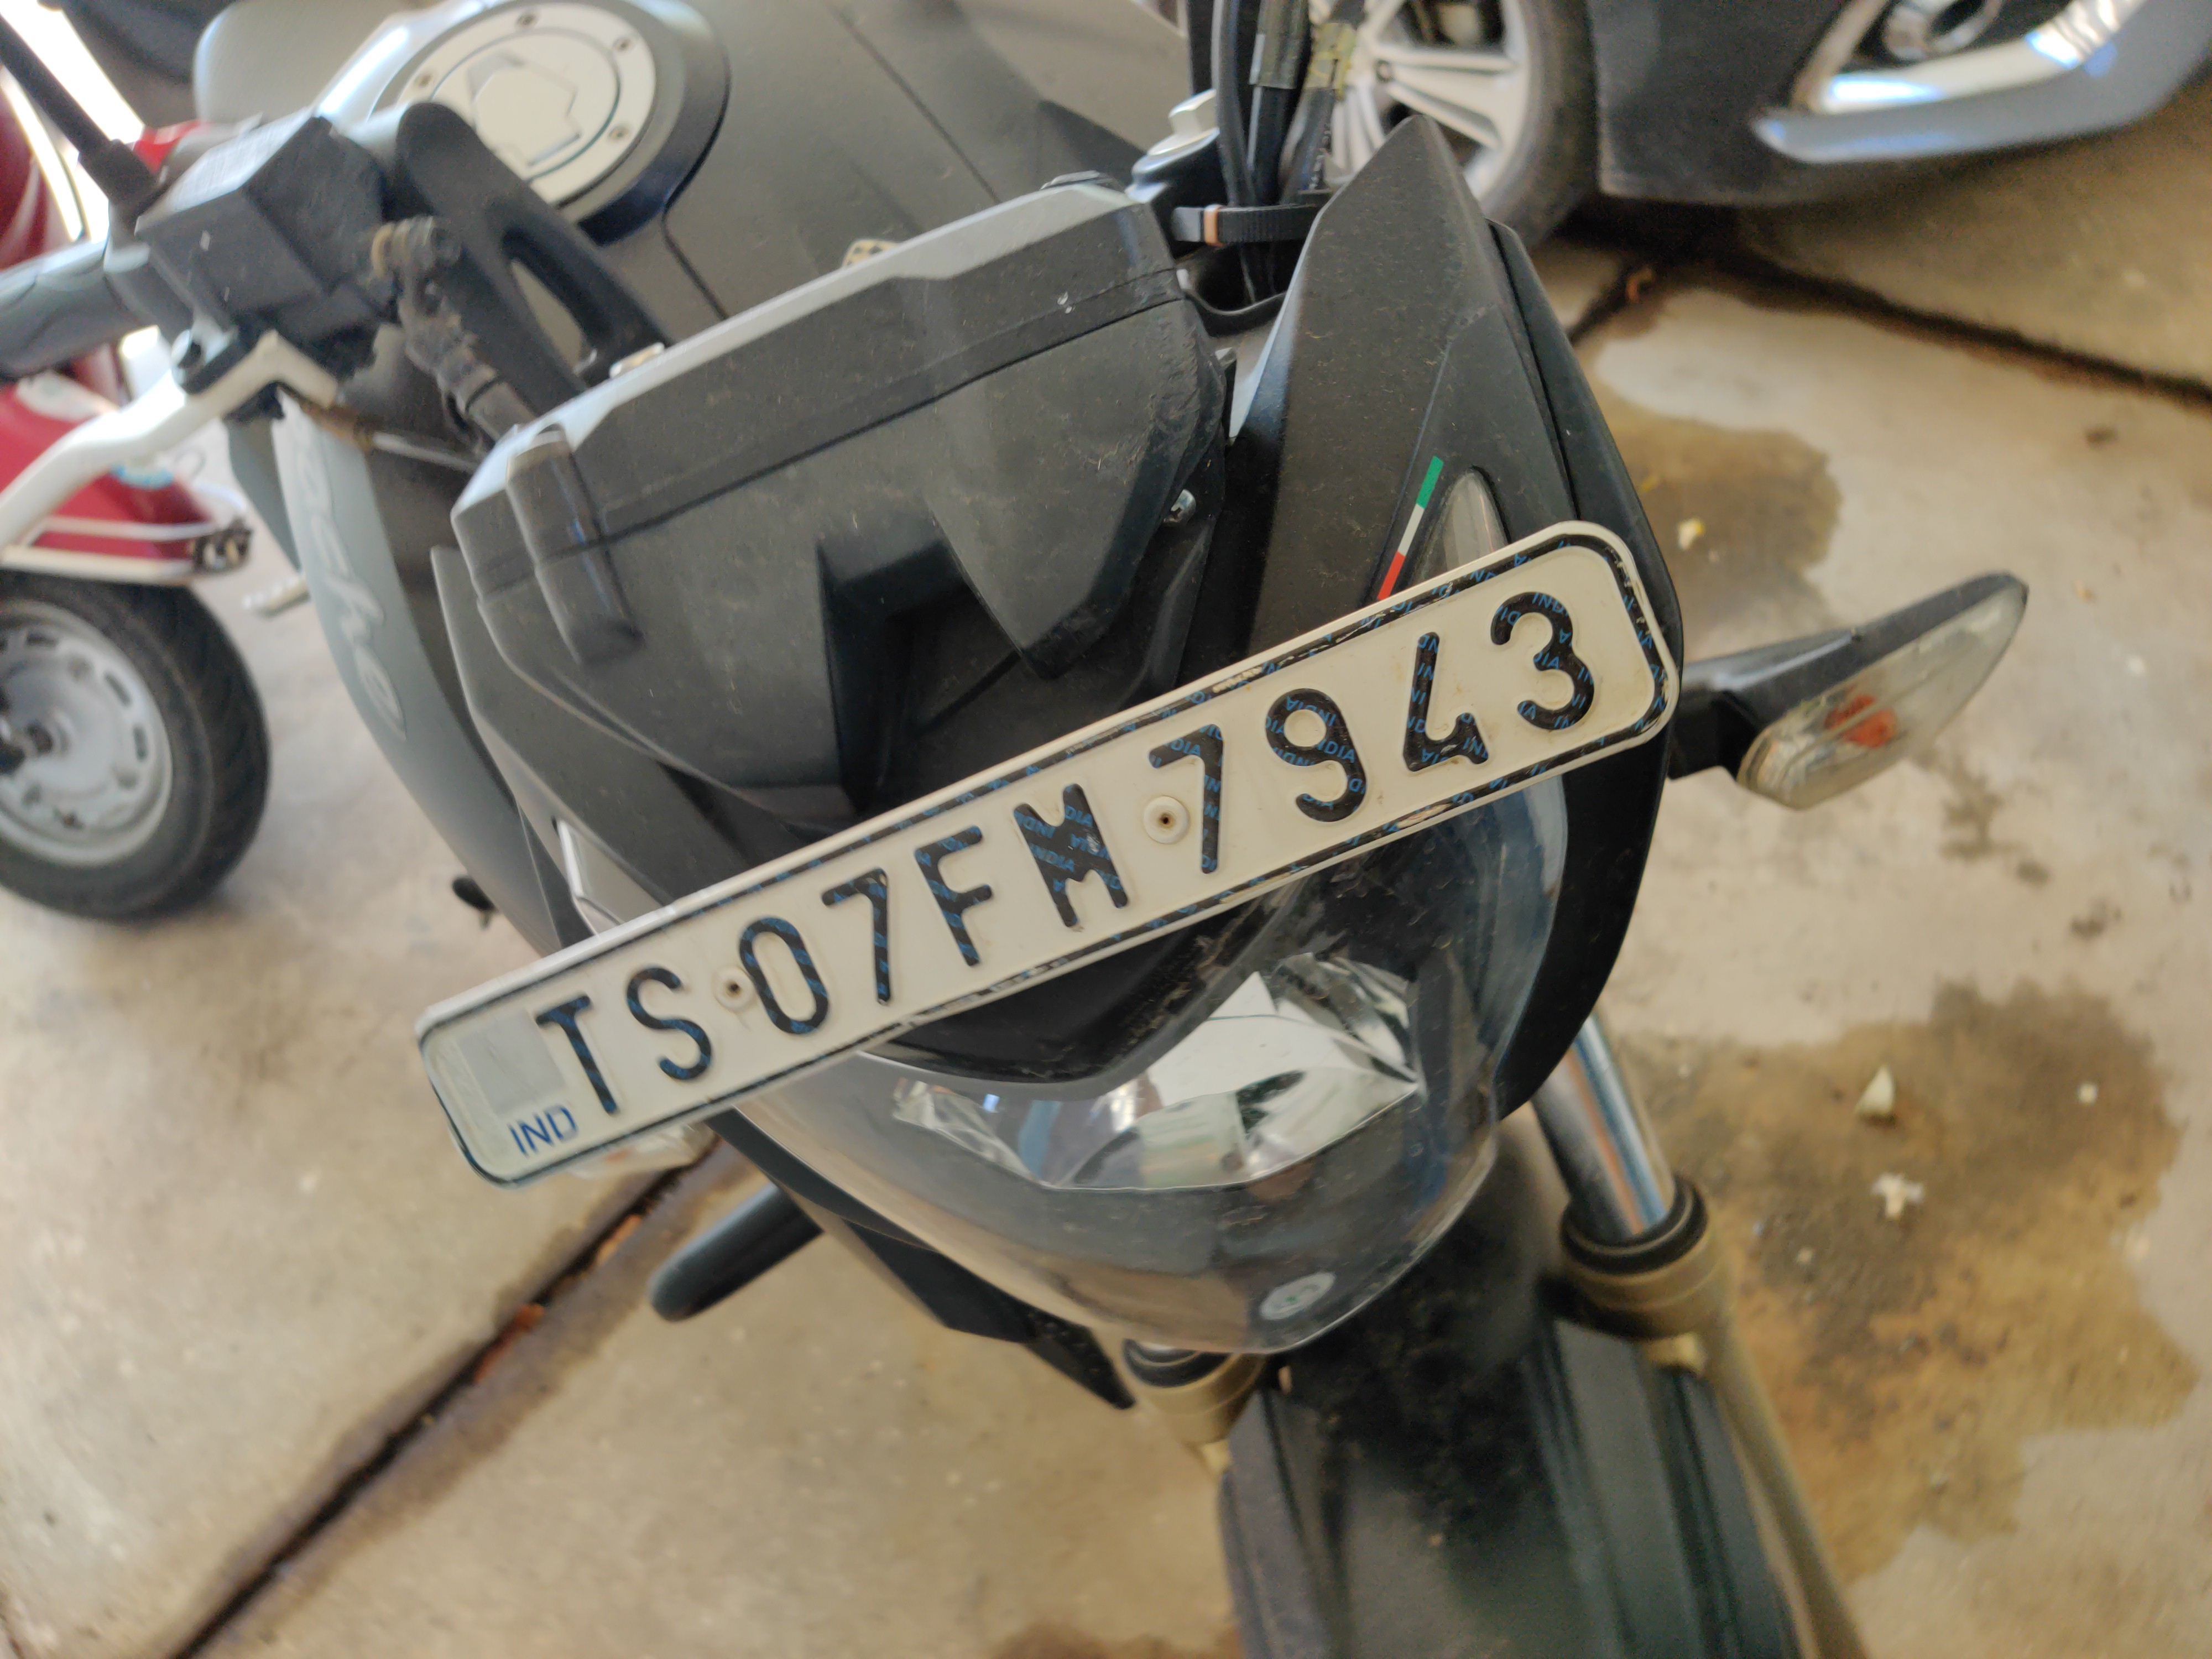plate: (410, 504, 1705, 1214)
